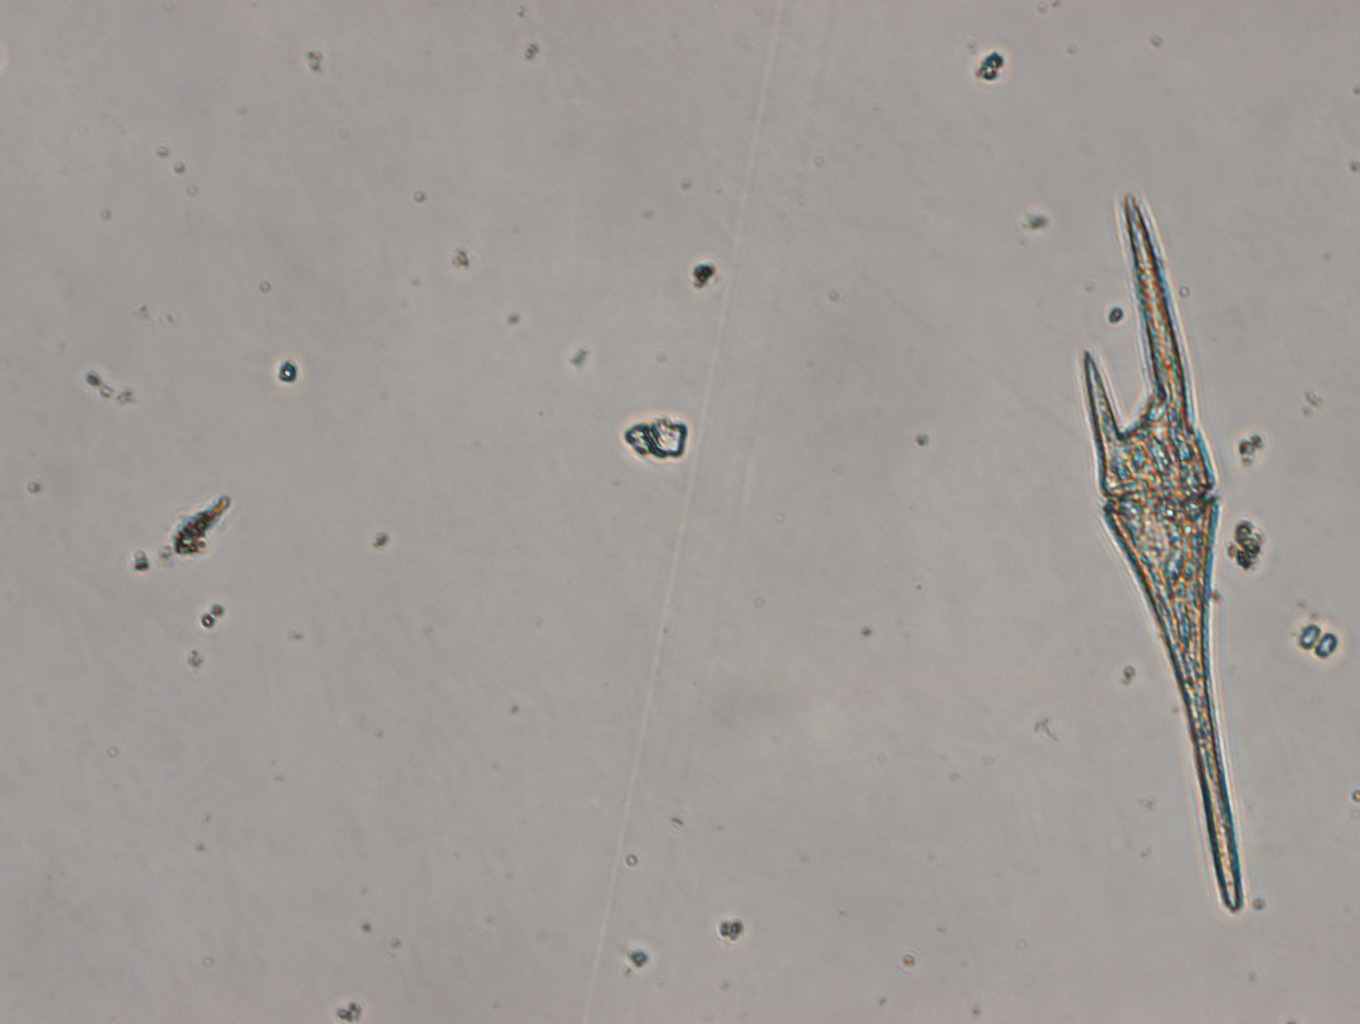ceratium furca: (1080, 194, 1244, 910)
